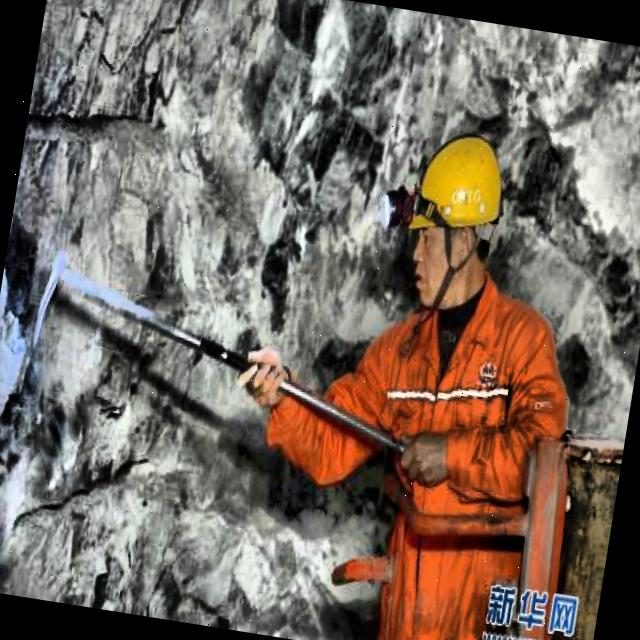helmet: (396, 118, 522, 308)
